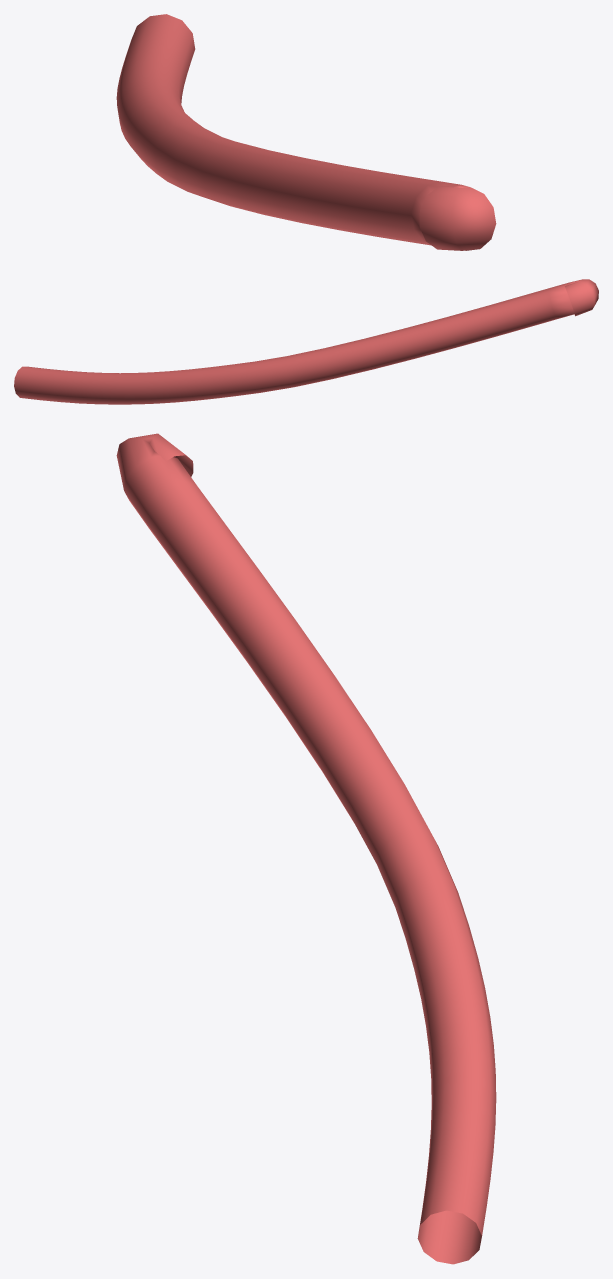
File: Dorsal_carpal_anastomosis.r_BezierCurve.373.glb
3 views of the same model, one above another, from view 1: azimuth 90°, elevation 25°; view 2: azimuth 150°, elevation 25°; view 3: azimuth 270°, elevation 25° (orthographic). The views are drawn at different scales.
Visible parts, largest first — view 1: Dorsal_carpal_anastomosis.r_BezierCurve.373; view 2: Dorsal_carpal_anastomosis.r_BezierCurve.373; view 3: Dorsal_carpal_anastomosis.r_BezierCurve.373.
Boxes of the visible parts, box(x1,y1,x2,y2) form: Dorsal_carpal_anastomosis.r_BezierCurve.373: box(116, 14, 496, 250); Dorsal_carpal_anastomosis.r_BezierCurve.373: box(14, 279, 598, 404); Dorsal_carpal_anastomosis.r_BezierCurve.373: box(116, 433, 496, 1264).
Bounding box in the file's own units: 0.0249 × 0.00848 × 0.00817.
